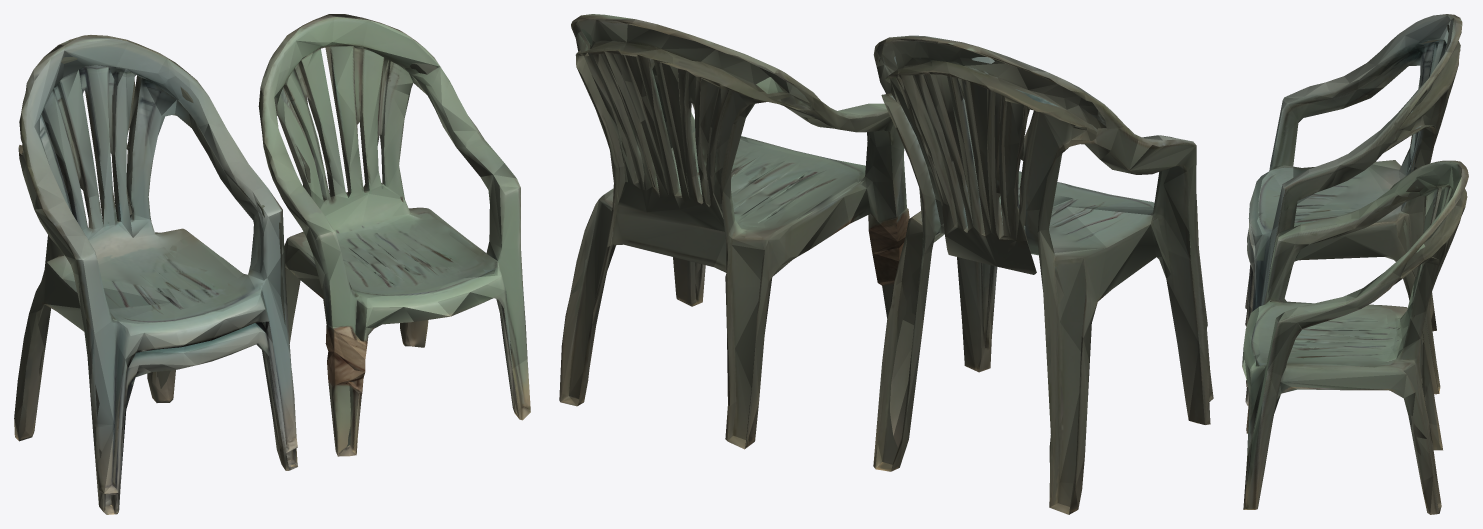
The model's file is Plastic Chair.fbx.
3 views of the same model, side by side, from view 1: azimuth 30°, elevation 25°; view 2: azimuth 150°, elevation 25°; view 3: azimuth 270°, elevation 25° (orthographic). The views are drawn at different scales.
Parts seen in each view (by area): view 1: node_0; view 2: node_0; view 3: node_0.
Boxes of the visible parts, <box> form: node_0: <box>14,14,530,514</box>; node_0: <box>559,14,1213,514</box>; node_0: <box>1242,14,1468,514</box>.
Size of the model in its own units: 0.9054 by 0.7411 by 0.4419.
1 material, 1 textured.
